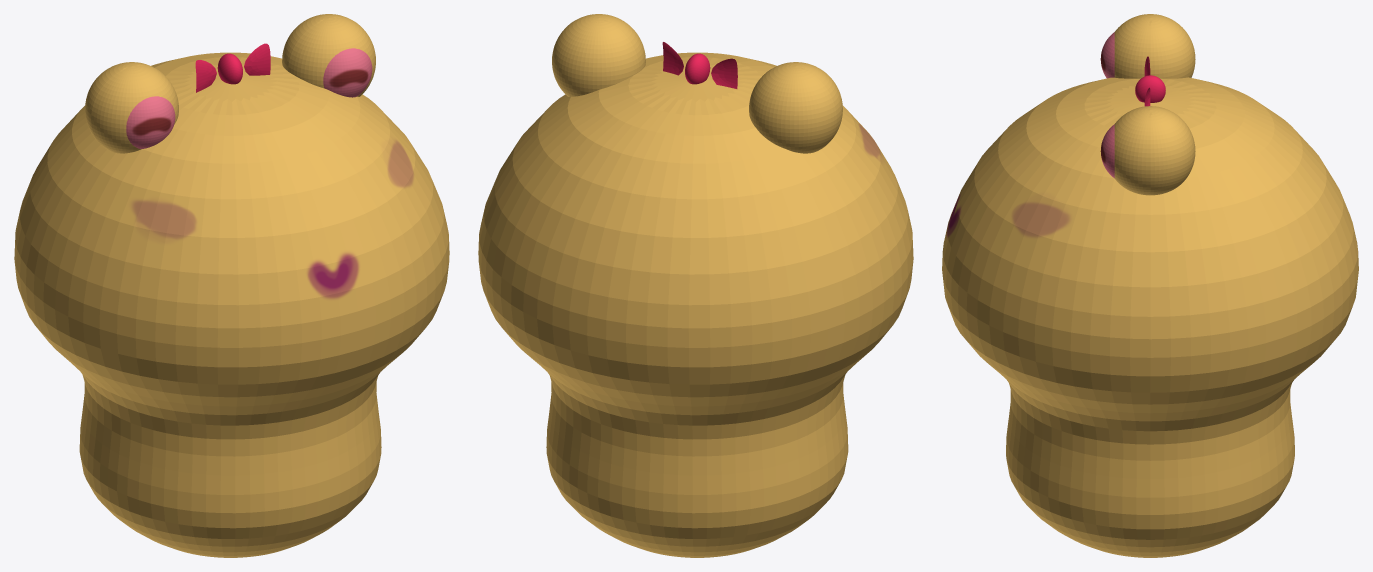
Rendered from cute_frog.fbx.
The picture shows the model from 3 angles, left to right: view 1: azimuth 30°, elevation 25°; view 2: azimuth 150°, elevation 25°; view 3: azimuth 270°, elevation 25°; orthographic projection. The views are drawn at different scales.
Parts seen in each view (by area): view 1: Body; view 2: Body; view 3: Body.
Boxes of the visible parts, x1,y1,x2,y2 form: Body: (14, 14, 449, 557); Body: (478, 14, 913, 557); Body: (942, 14, 1358, 557).
Size of the model in its own units: 823 by 1042 by 823.
Materials: 4 (2 with a texture image).
